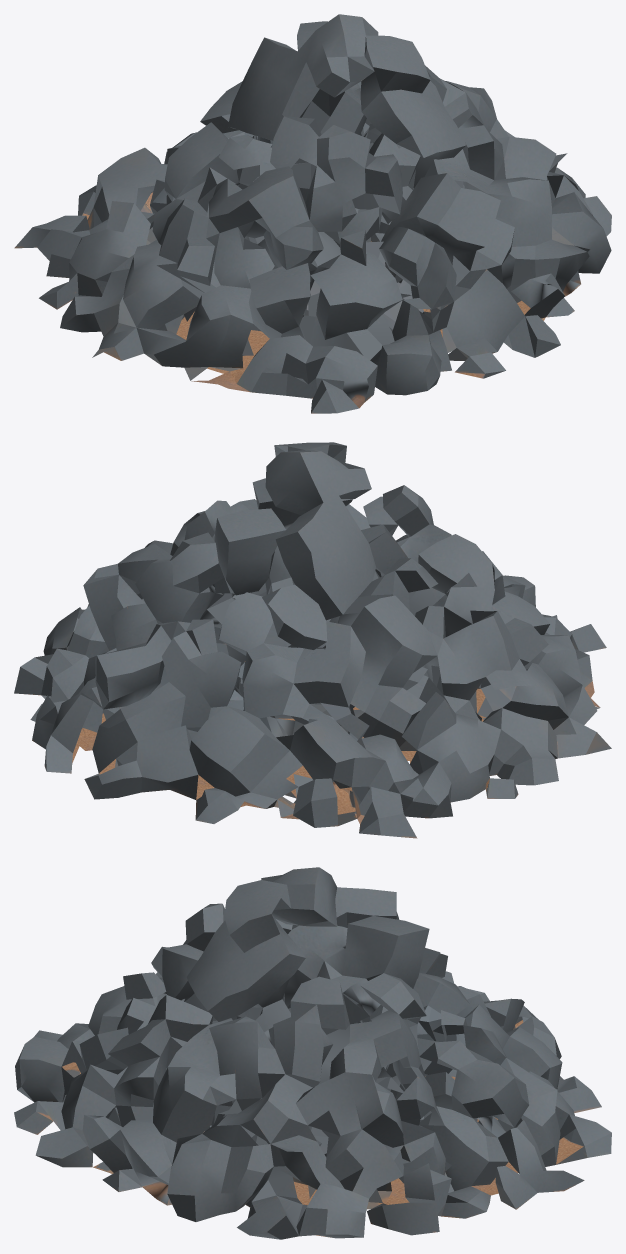
File: rubble_set.glb
3 views of the same model, one above another, from view 1: azimuth 30°, elevation 25°; view 2: azimuth 150°, elevation 25°; view 3: azimuth 270°, elevation 25° (orthographic).
Visible parts, largest first — view 1: Mesh_0; view 2: Mesh_0; view 3: Mesh_0.
Part boxes in pixels (left/top/right/bottom): Mesh_0: left=14, top=14, right=611, bottom=413; Mesh_0: left=14, top=442, right=611, bottom=838; Mesh_0: left=14, top=867, right=611, bottom=1239.
Bounding box in the file's own units: 1.9 × 0.891 × 1.85.
1 material, 1 textured.
